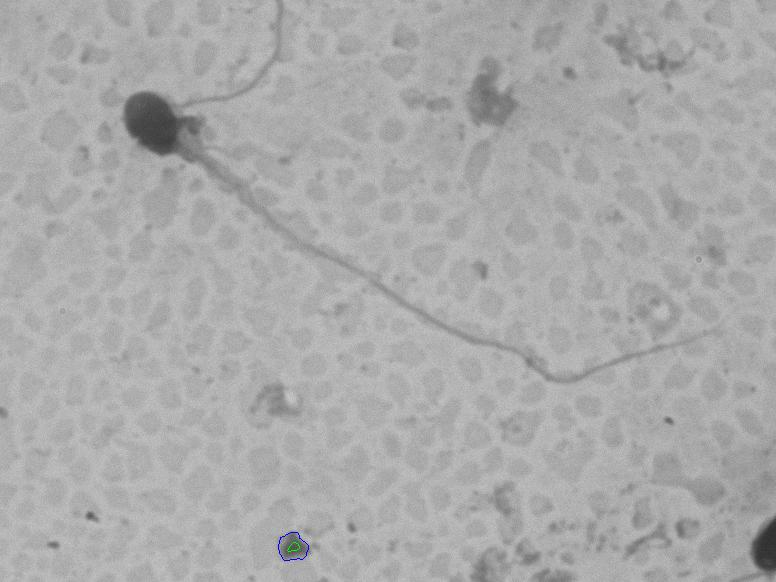Abnormal: (109, 73, 744, 400)
